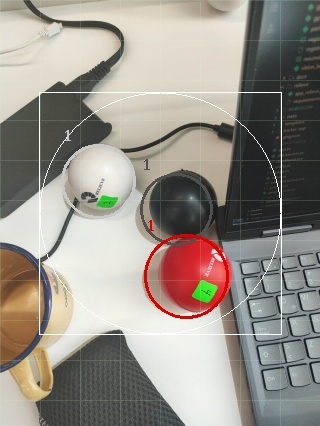Pelota blanca: (0, 241, 52, 371), (60, 142, 137, 219), (2, 180, 70, 259), (10, 345, 54, 400), (0, 393, 41, 425), (204, 0, 246, 11)
Pelota negra: (135, 169, 219, 243)
Pelota roja: (140, 233, 233, 320)
